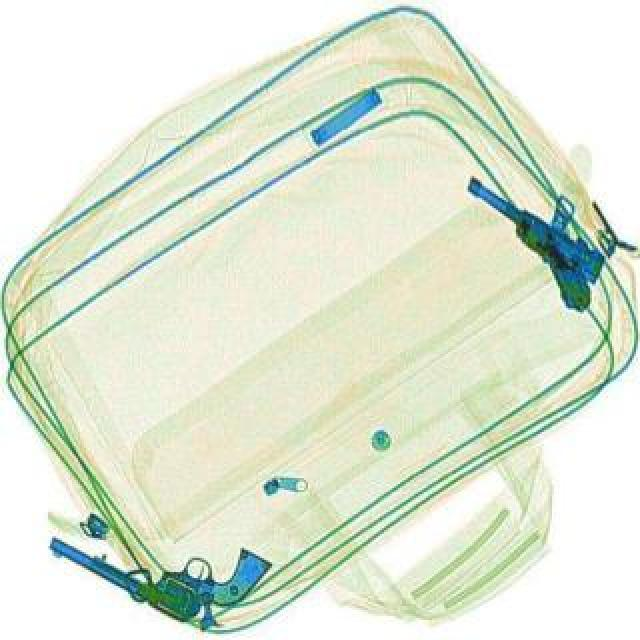gun: (44, 472, 276, 638), (436, 166, 620, 314)
